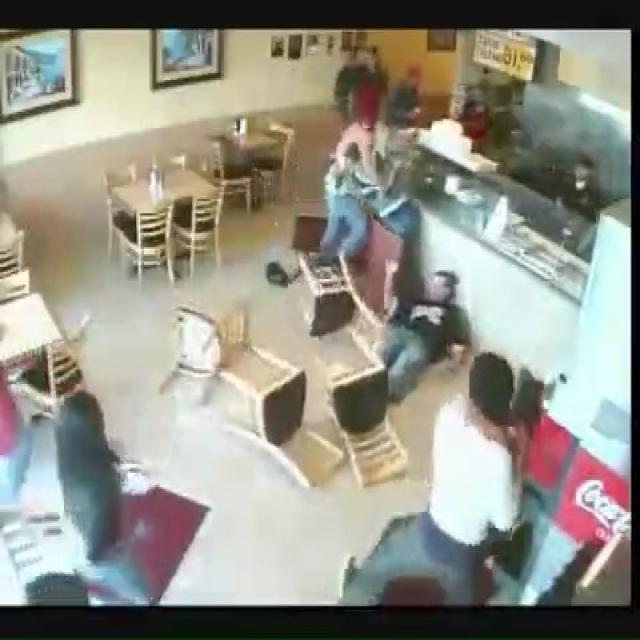fight: (381, 316, 539, 608), (313, 86, 473, 372)
